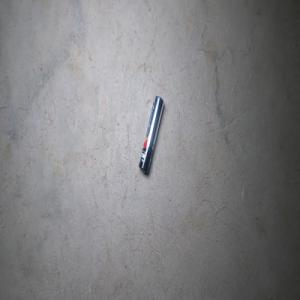Battery: (138, 95, 164, 174)
